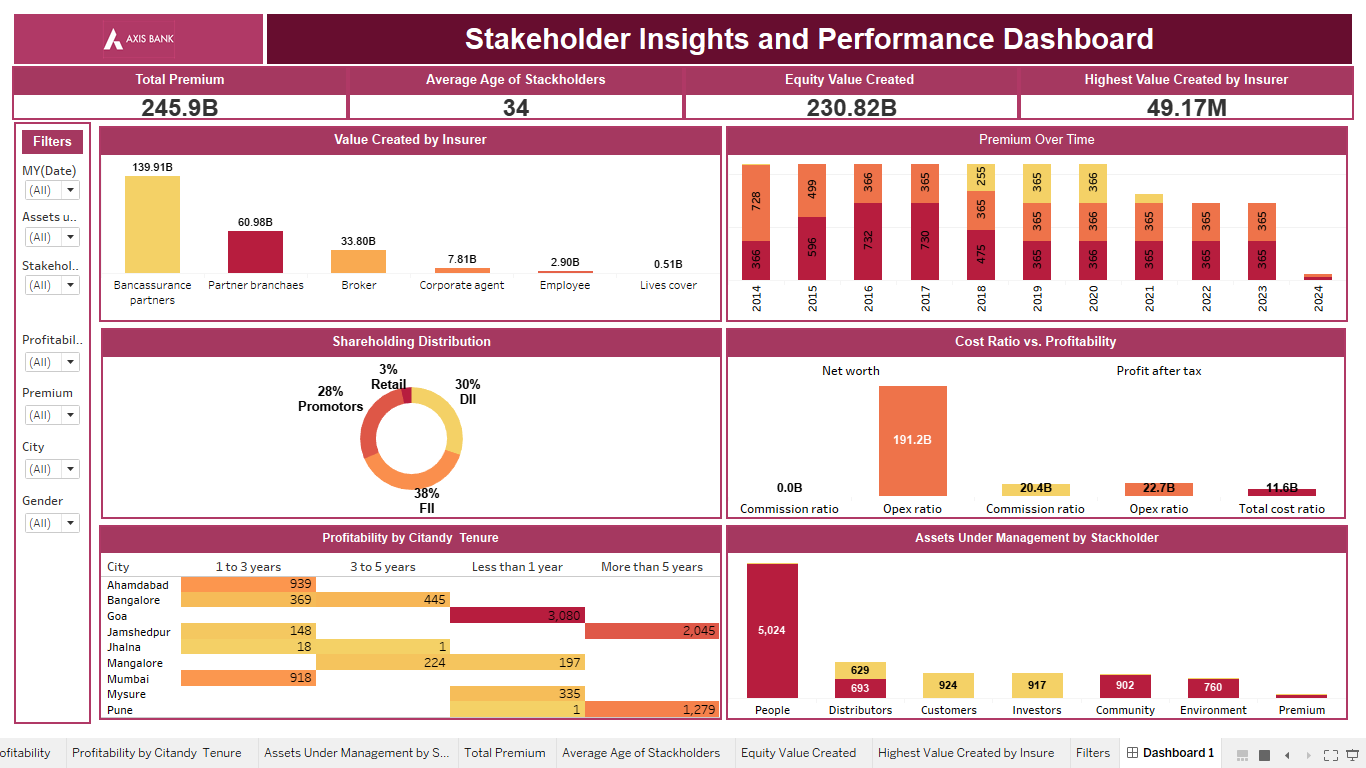

This screenshot's page, from the dashboard's own definition file:
{"tool":"tableau","page":{"name":"Dashboard 1","canvas":[1000,1000],"units":"permille","ordinal":0},"visuals":[{"type":"image","param":"C:/Users/ASUS USER/Desktop/Sibi/axis-bank.png","box":[10.4,20.3,219,91.2]},{"type":"text","box":[229.4,20.3,760.2,91.2]},{"type":"worksheet","title":"Total Premium","mark":"Automatic","box":[10.4,111.5,245,91.2]},{"type":"worksheet","title":"Average Age of Stackholders","mark":"Automatic","box":[255.4,111.5,245,91.2]},{"type":"worksheet","title":"Equity Value Created ","mark":"Automatic","box":[500.4,111.5,245,91.2]},{"type":"worksheet","title":"Highest Value Created by Insure","mark":"Automatic","box":[745.5,111.5,244.2,91.2]},{"type":"worksheet","title":"Value Created by Insurer","mark":"Automatic","rows":["Value Created"],"cols":["Insurer"],"box":[84,209.5,451.1,255.1]},{"type":"worksheet","title":"Premium Over Time","mark":"Bar","rows":["Premium 1"],"cols":["Date"],"box":[535.1,209.5,451.1,255.1]},{"type":"worksheet","title":"Filters","mark":"Automatic","box":[15.6,212.8,59.8,54.1]},{"type":"filter","title":"Filters","param":"[federated.0w7aztk01aejuo1epxqam0nqjrpi].[my:Date:ok]","box":[15.6,266.9,59.8,77.7]},{"type":"filter","title":"Filters","param":"[federated.0w7aztk01aejuo1epxqam0nqjrpi].[none:Assets under management:nk]","box":[15.6,344.6,59.8,82.8]},{"type":"filter","title":"Filters","param":"[federated.0w7aztk01aejuo1epxqam0nqjrpi].[none:Stakeholder:nk]","box":[15.6,427.4,59.8,77.7]},{"type":"worksheet","title":"Shareholding Distribution","mark":"Pie","rows":["Calculation_830069711946121216","Calculation_830069711946121216"],"box":[85.7,467.9,449.4,248.3]},{"type":"worksheet","title":"Cost Ratio vs. Profitability","mark":"Automatic","rows":["Value Created"],"cols":["Profitability","Cost ratio"],"box":[535.1,467.9,449.4,248.3]},{"type":"filter","title":"Filters","param":"[federated.0w7aztk01aejuo1epxqam0nqjrpi].[none:Profitability:nk]","box":[15.6,552.4,59.8,89.5]},{"type":"filter","title":"Filters","param":"[federated.0w7aztk01aejuo1epxqam0nqjrpi].[none:Premium 1:nk]","box":[15.6,641.9,59.8,91.2]},{"type":"worksheet","title":"Profitability by Citandy  Tenure","mark":"Square","rows":["City"],"cols":["Policy tenuer"],"box":[84,719.6,451.1,253.4]},{"type":"worksheet","title":"Assets Under Management by Stackholder","mark":"Automatic","rows":["Assets under management"],"cols":["Stakeholder"],"box":[535.1,719.6,451.1,253.4]},{"type":"filter","title":"Filters","param":"[federated.0w7aztk01aejuo1epxqam0nqjrpi].[none:City:nk]","box":[15.6,733.1,59.8,91.2]},{"type":"filter","title":"Filters","param":"[federated.0w7aztk01aejuo1epxqam0nqjrpi].[none:Gender:nk]","box":[15.6,824.3,59.8,87.8]}]}

Visuals, with their boxes on the dashboard's canvas, which has no fixed pixel size, in thousandths of its width and height (x1, y1, x2, y2). These are canvas units, not pixel positions in the 1366x768 screenshot, which may show the page scaled, cropped or inside an application window:
image: (left=10, top=20, right=229, bottom=112)
text: (left=229, top=20, right=990, bottom=112)
"Total Premium" worksheet: (left=10, top=112, right=255, bottom=203)
"Average Age of Stackholders" worksheet: (left=255, top=112, right=500, bottom=203)
"Equity Value Created " worksheet: (left=500, top=112, right=745, bottom=203)
"Highest Value Created by Insure" worksheet: (left=746, top=112, right=990, bottom=203)
"Value Created by Insurer" worksheet: (left=84, top=210, right=535, bottom=465)
"Premium Over Time" worksheet (Bar marks): (left=535, top=210, right=986, bottom=465)
"Filters" worksheet: (left=16, top=213, right=75, bottom=267)
"Filters" filter: (left=16, top=267, right=75, bottom=345)
"Filters" filter: (left=16, top=345, right=75, bottom=427)
"Filters" filter: (left=16, top=427, right=75, bottom=505)
"Shareholding Distribution" worksheet (Pie marks): (left=86, top=468, right=535, bottom=716)
"Cost Ratio vs. Profitability" worksheet: (left=535, top=468, right=984, bottom=716)
"Filters" filter: (left=16, top=552, right=75, bottom=642)
"Filters" filter: (left=16, top=642, right=75, bottom=733)
"Profitability by Citandy  Tenure" worksheet (Square marks): (left=84, top=720, right=535, bottom=973)
"Assets Under Management by Stackholder" worksheet: (left=535, top=720, right=986, bottom=973)
"Filters" filter: (left=16, top=733, right=75, bottom=824)
"Filters" filter: (left=16, top=824, right=75, bottom=912)
